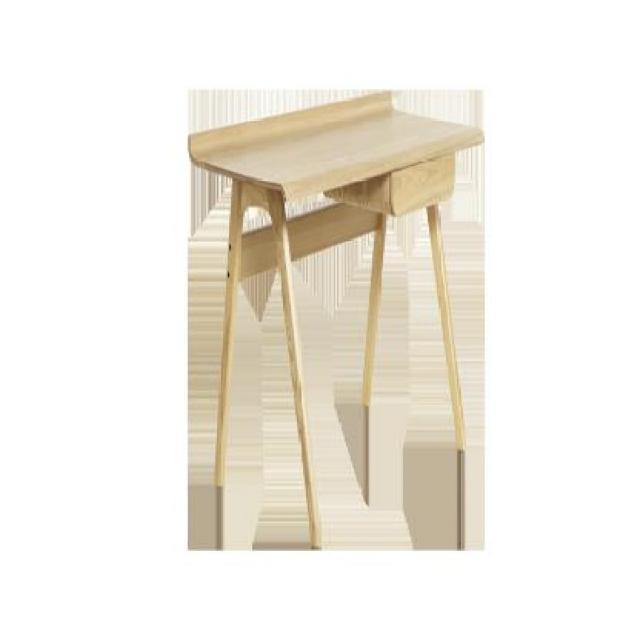table: (185, 86, 490, 554)
